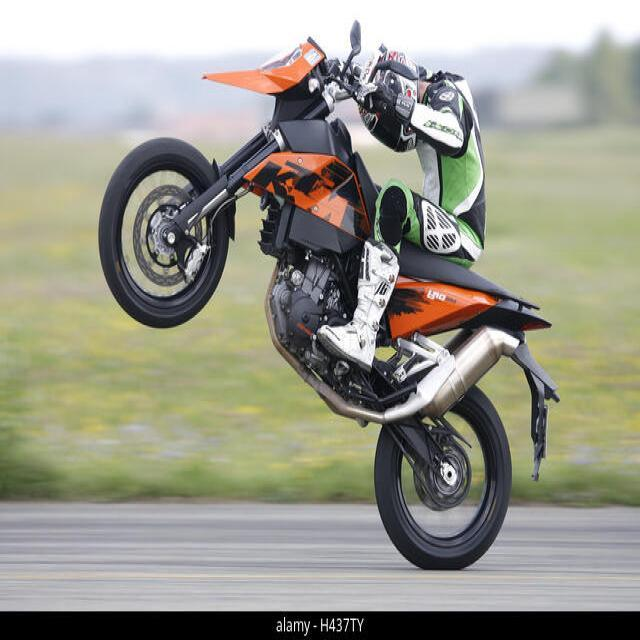Wheeling: (92, 24, 567, 573)
